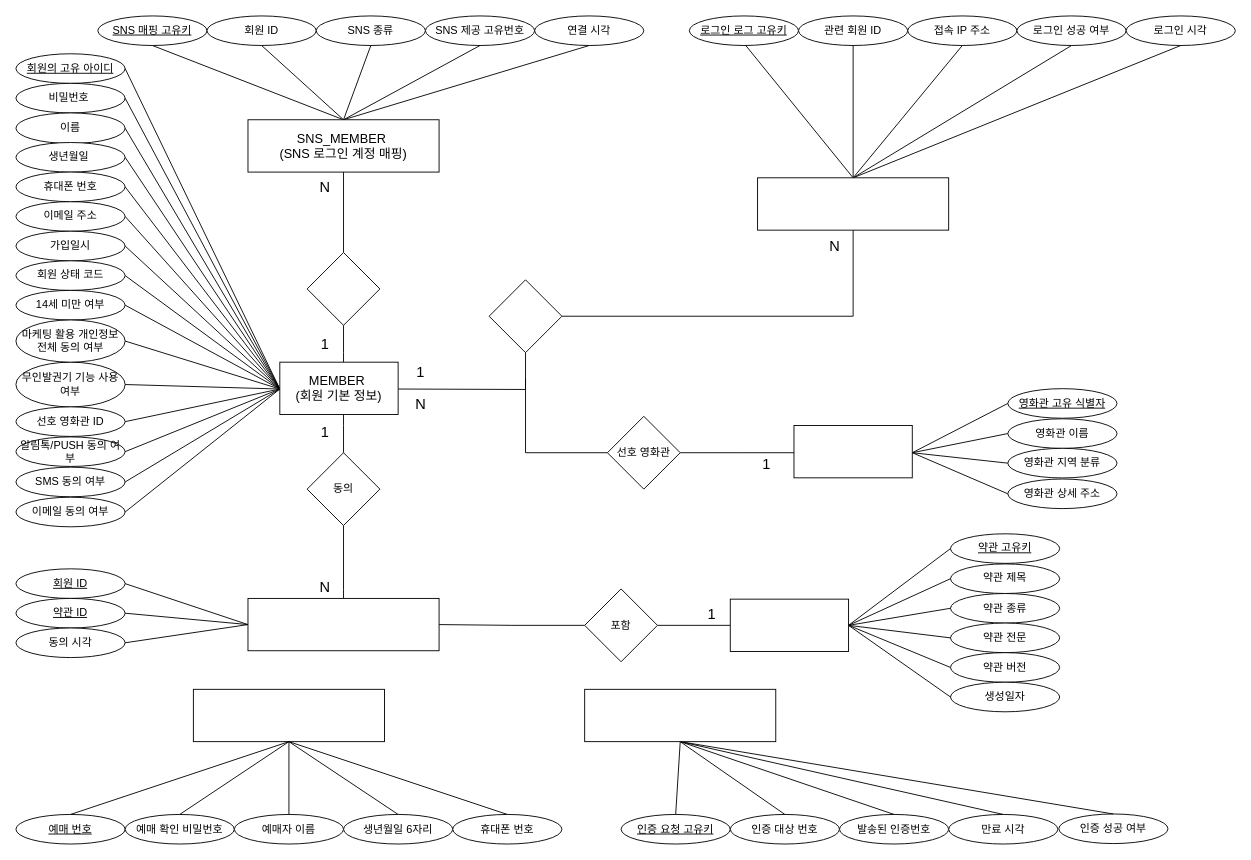
The diagram is 1251 pixels wide and 860 high, and some of its shapes have lost their labels. Each missing label, with the centre of its shape:
"CINEMA (영화관 마스터)" belongs at (x=852, y=451).
"MEMBER_AUTH (인증번호 관리)" belongs at (x=680, y=715).
"MEMBER_LOGIN_HISTORY (로그인 기록 저장)" belongs at (x=853, y=203).
"MEMBER_TERMS_AGREE (약관 동의 이력)" belongs at (x=343, y=624).
"NON_MEMBER ( 비회원 예매 확인 정보)" belongs at (x=288, y=715).
"SNS 연동" belongs at (x=343, y=288).
"TERMS (약관 마스터)" belongs at (x=789, y=624).
"로그인" belongs at (x=525, y=316).
